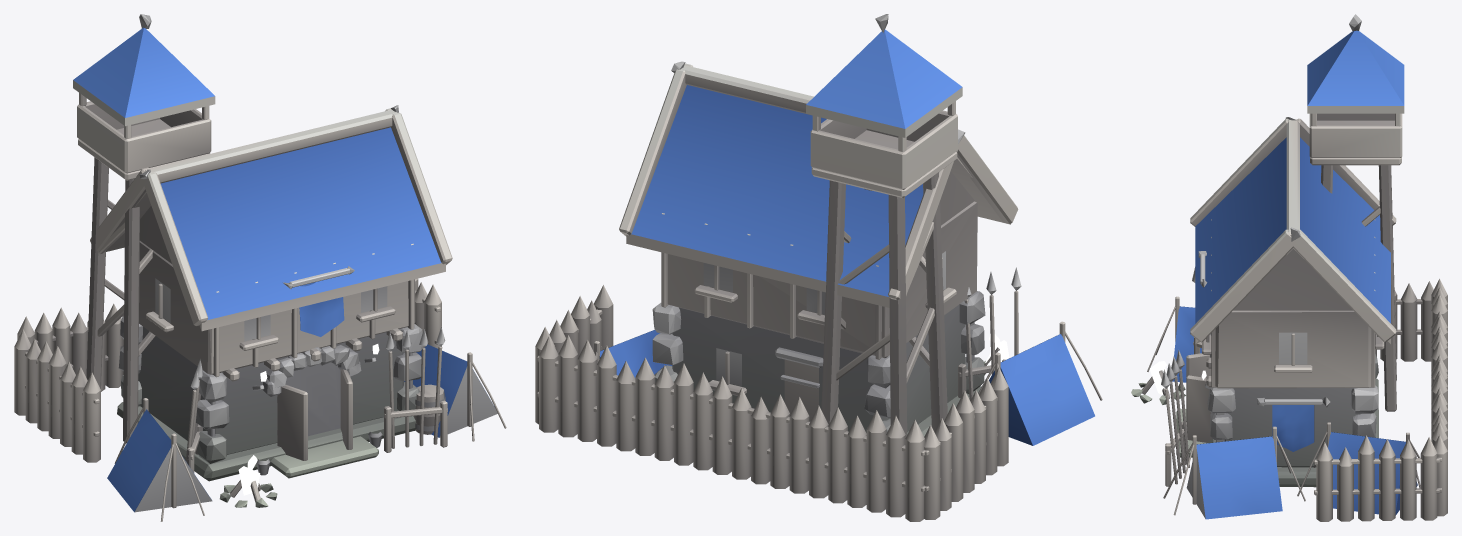
File: barracks_2_7.glb
The picture shows the model from 3 angles, left to right: view 1: azimuth 30°, elevation 25°; view 2: azimuth 150°, elevation 25°; view 3: azimuth 270°, elevation 25°; orthographic projection. The views are drawn at different scales.
Visible parts, largest first — view 1: Tower; view 2: Tower; view 3: Tower.
Boxes of the visible parts, x1,y1,x2,y2 form: Tower: [14, 14, 506, 521]; Tower: [535, 14, 1102, 521]; Tower: [1131, 14, 1447, 521].
Size of the model in its own units: 4.88 by 5.04 by 3.79.
